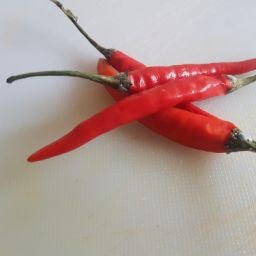Cayenne pepper: (3, 3, 256, 165), (26, 2, 256, 169)
